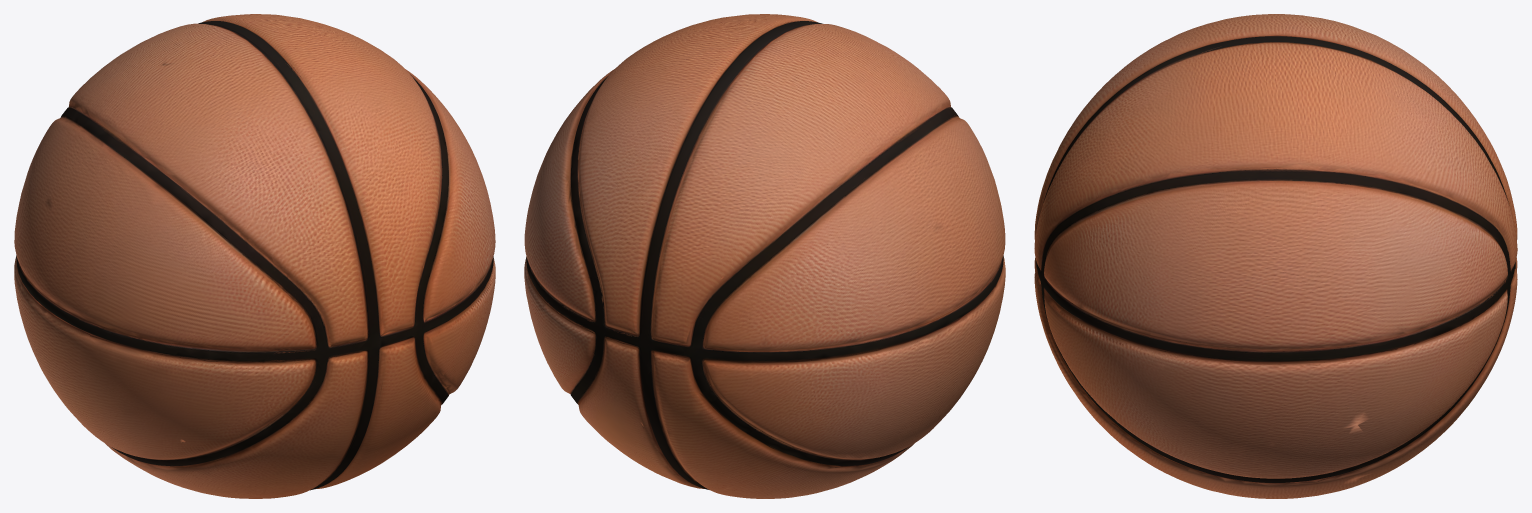
Rendered from palla_arancione_mobile.glb.
3 renders of one model, left to right at view 1: azimuth 30°, elevation 25°; view 2: azimuth 150°, elevation 25°; view 3: azimuth 270°, elevation 25°, orthographic.
Parts seen in each view (by area): view 1: node_0; view 2: node_0; view 3: node_0.
Boxes of the visible parts, x1,y1,x2,y2 form: node_0: (14,14,495,498); node_0: (524,14,1005,498); node_0: (1034,14,1517,498).
Bounding box in the file's own units: 1.18 × 1.19 × 1.19.
Materials: 1 (1 with a texture image).
